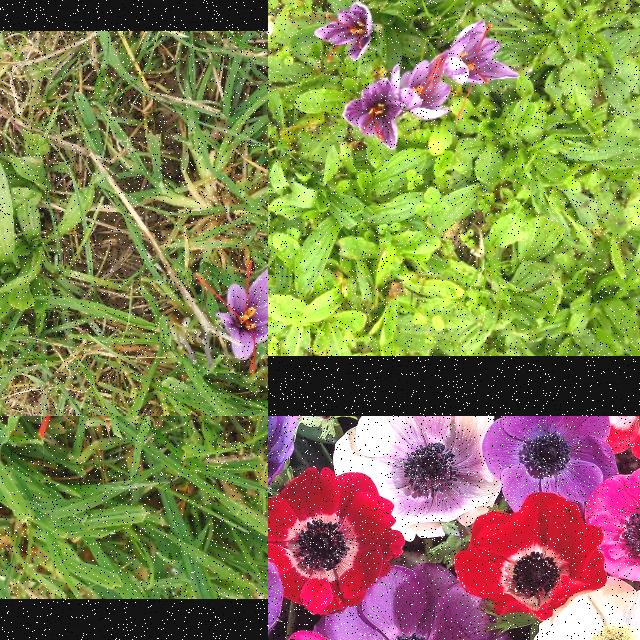flower: (199, 262, 268, 374), (444, 18, 518, 118), (342, 79, 404, 151), (390, 50, 450, 120), (314, 2, 376, 62)
